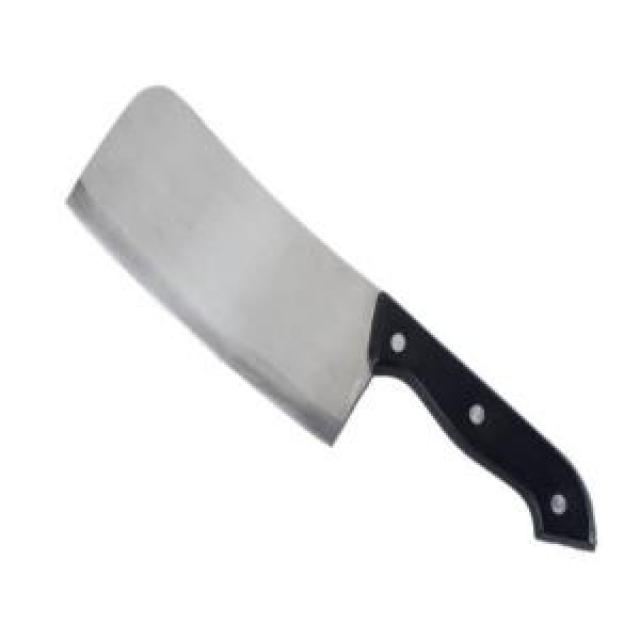knife: (64, 81, 599, 553)
